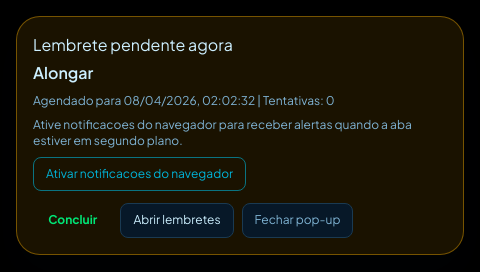
Test: ReminderAlertCenter › reabre o pop-up da mesma ocorrencia quando chega retry depois de fechamento visual
Click the button "Fechar pop-up".
click(297, 220)  # box x1=242 y1=203 x2=353 y2=238
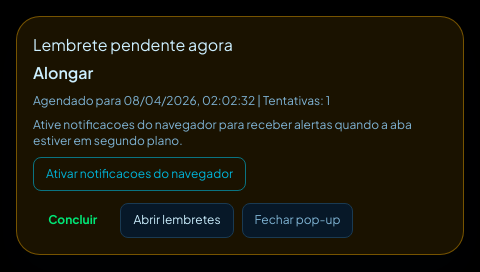
Expected: the text "Lembrete pendente agora" is shown, x1=33 y1=34 x2=233 y2=55
Expected: the text "Agendado para 08/04/2026, 02:02:32 | Tentativas: 1" is shown, x1=33 y1=93 x2=330 y2=108
